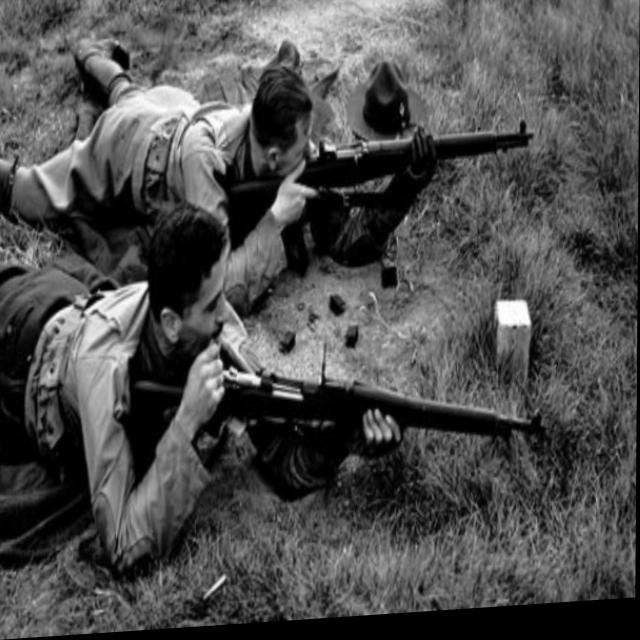other: (14, 207, 258, 528), (35, 13, 332, 254)
